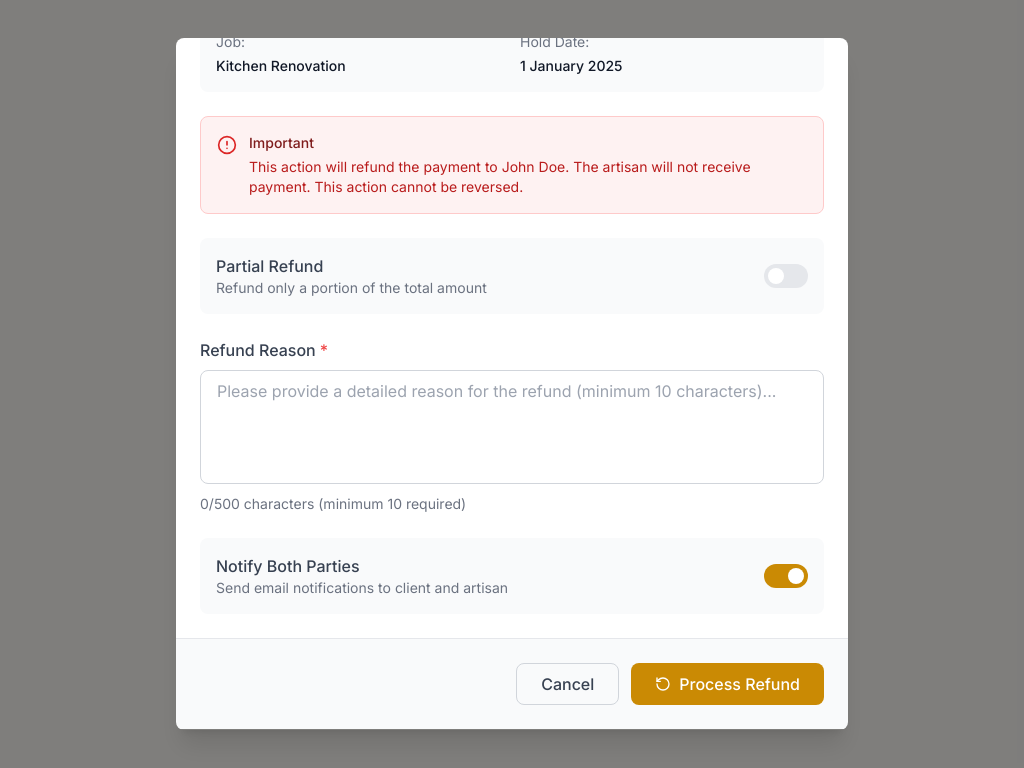
it: RefundModal › should validate minimum reason length (10 chars)
(page scrolled)
Type "Short" into the text box labelled "Refund Reason*" at (512, 427), box top-left (200, 370), bottom-right (824, 484)
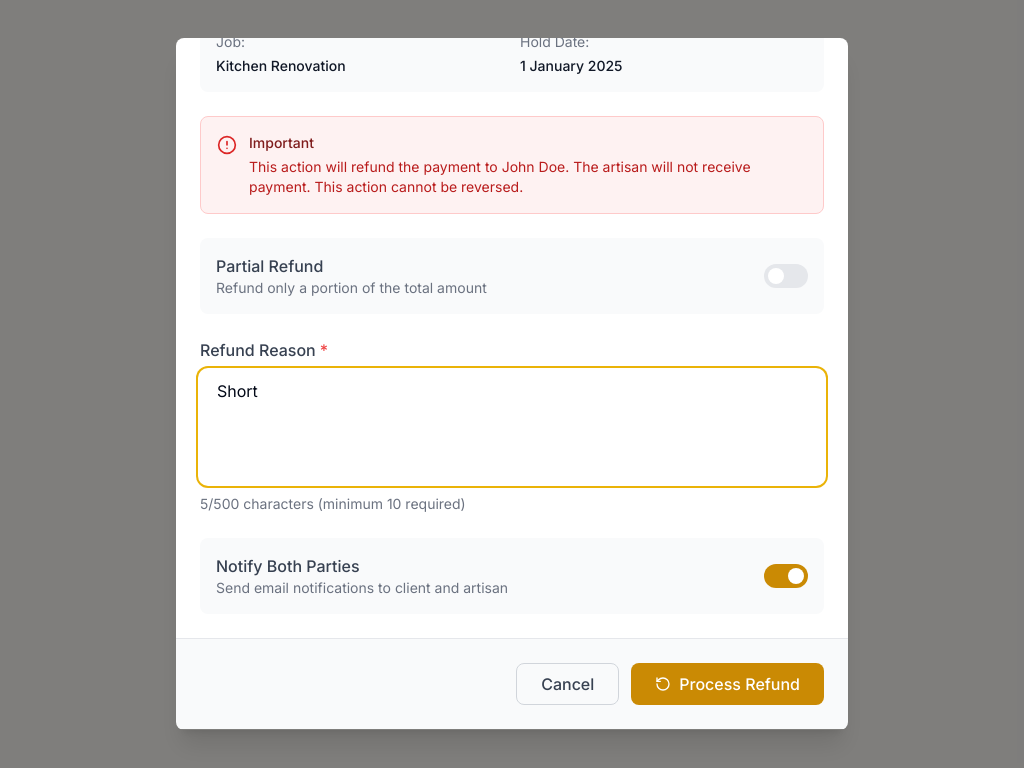
Click the button "Process Refund" at (728, 684), box top-left (631, 663), bottom-right (824, 705)
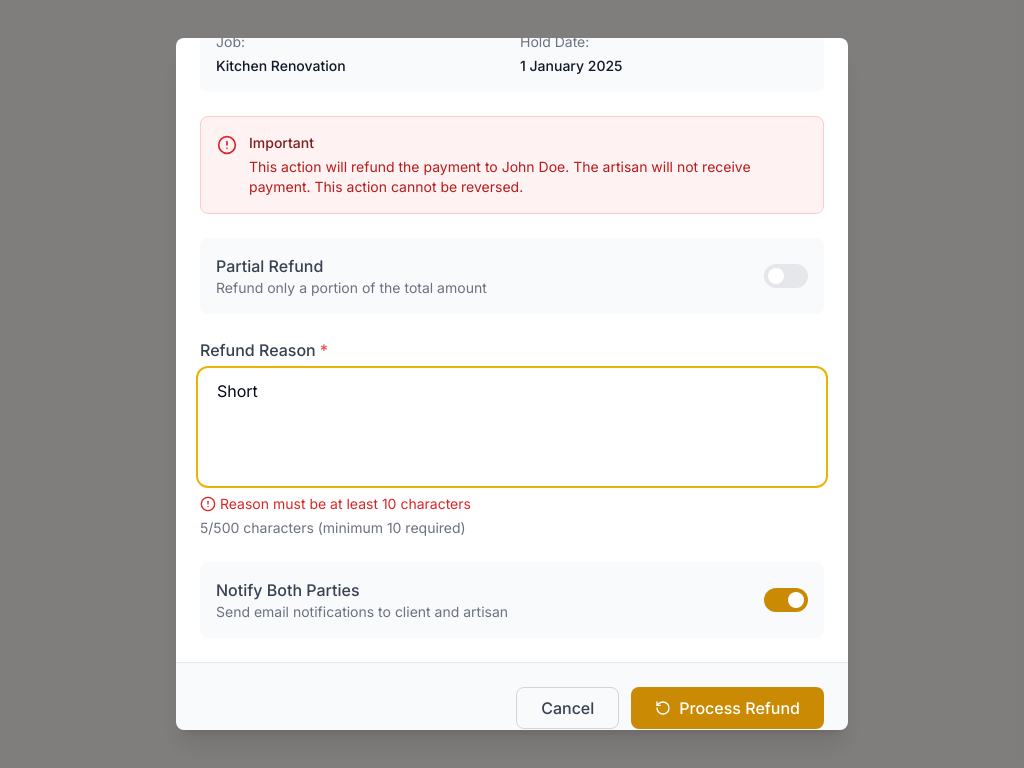
Check: the text "Reason must be at least 10 characters" is shown, box top-left (200, 495), bottom-right (471, 512)
